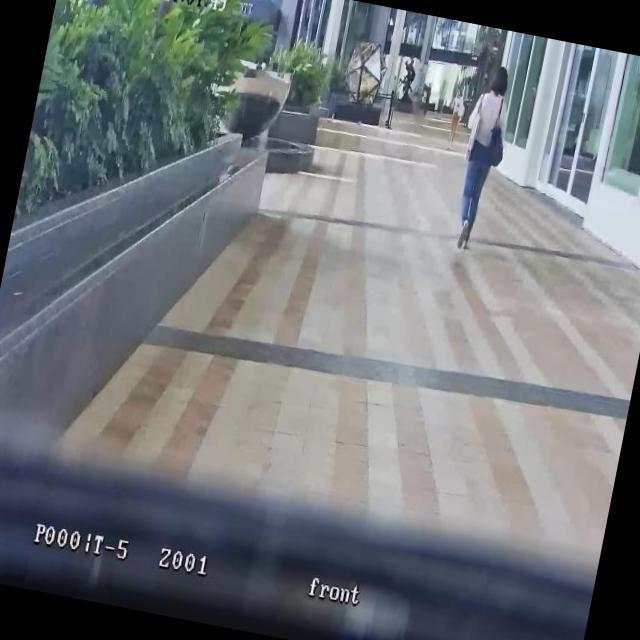person: (445, 63, 518, 256), (442, 88, 468, 152)
